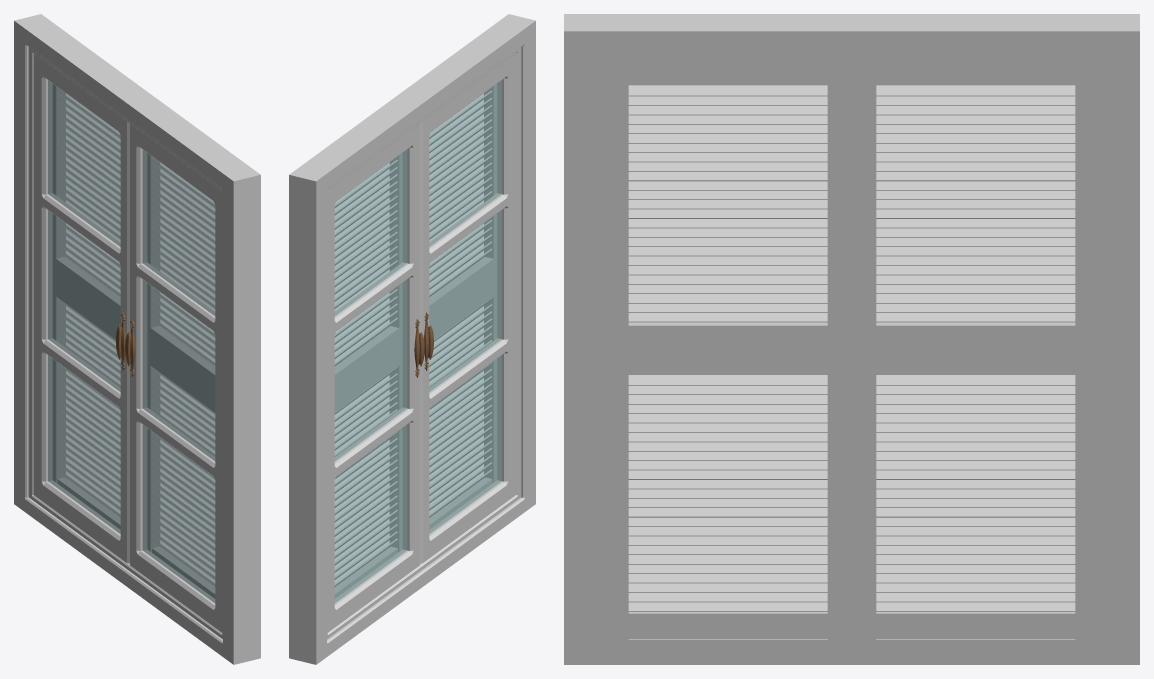
Rendered from Window02_open.FBX.
The picture shows the model from 3 angles, left to right: view 1: azimuth 30°, elevation 25°; view 2: azimuth 150°, elevation 25°; view 3: azimuth 270°, elevation 25°; orthographic projection. The views are drawn at different scales.
Parts seen in each view (by area): view 1: Window02_open; view 2: Window02_open; view 3: Window02_open.
Boxes of the visible parts, x1,y1,x2,y2 form: Window02_open: (14,14,260,664); Window02_open: (289,14,535,664); Window02_open: (564,14,1139,664).
Size of the model in its own units: 10.96 by 140 by 170.
